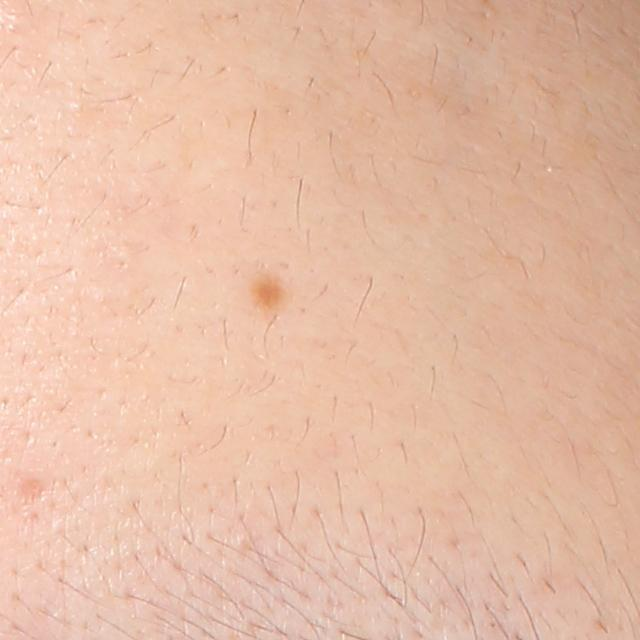atrophic_scar: (16, 469, 59, 522)
nevus: (250, 271, 289, 314)
